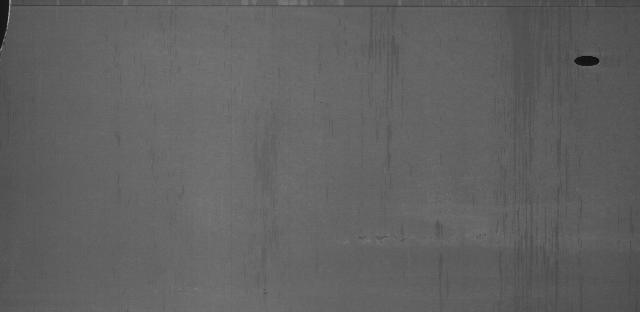punching_hole: (571, 50, 606, 71)
water_spot: (499, 8, 566, 290)
welding_line: (11, 1, 640, 12)
